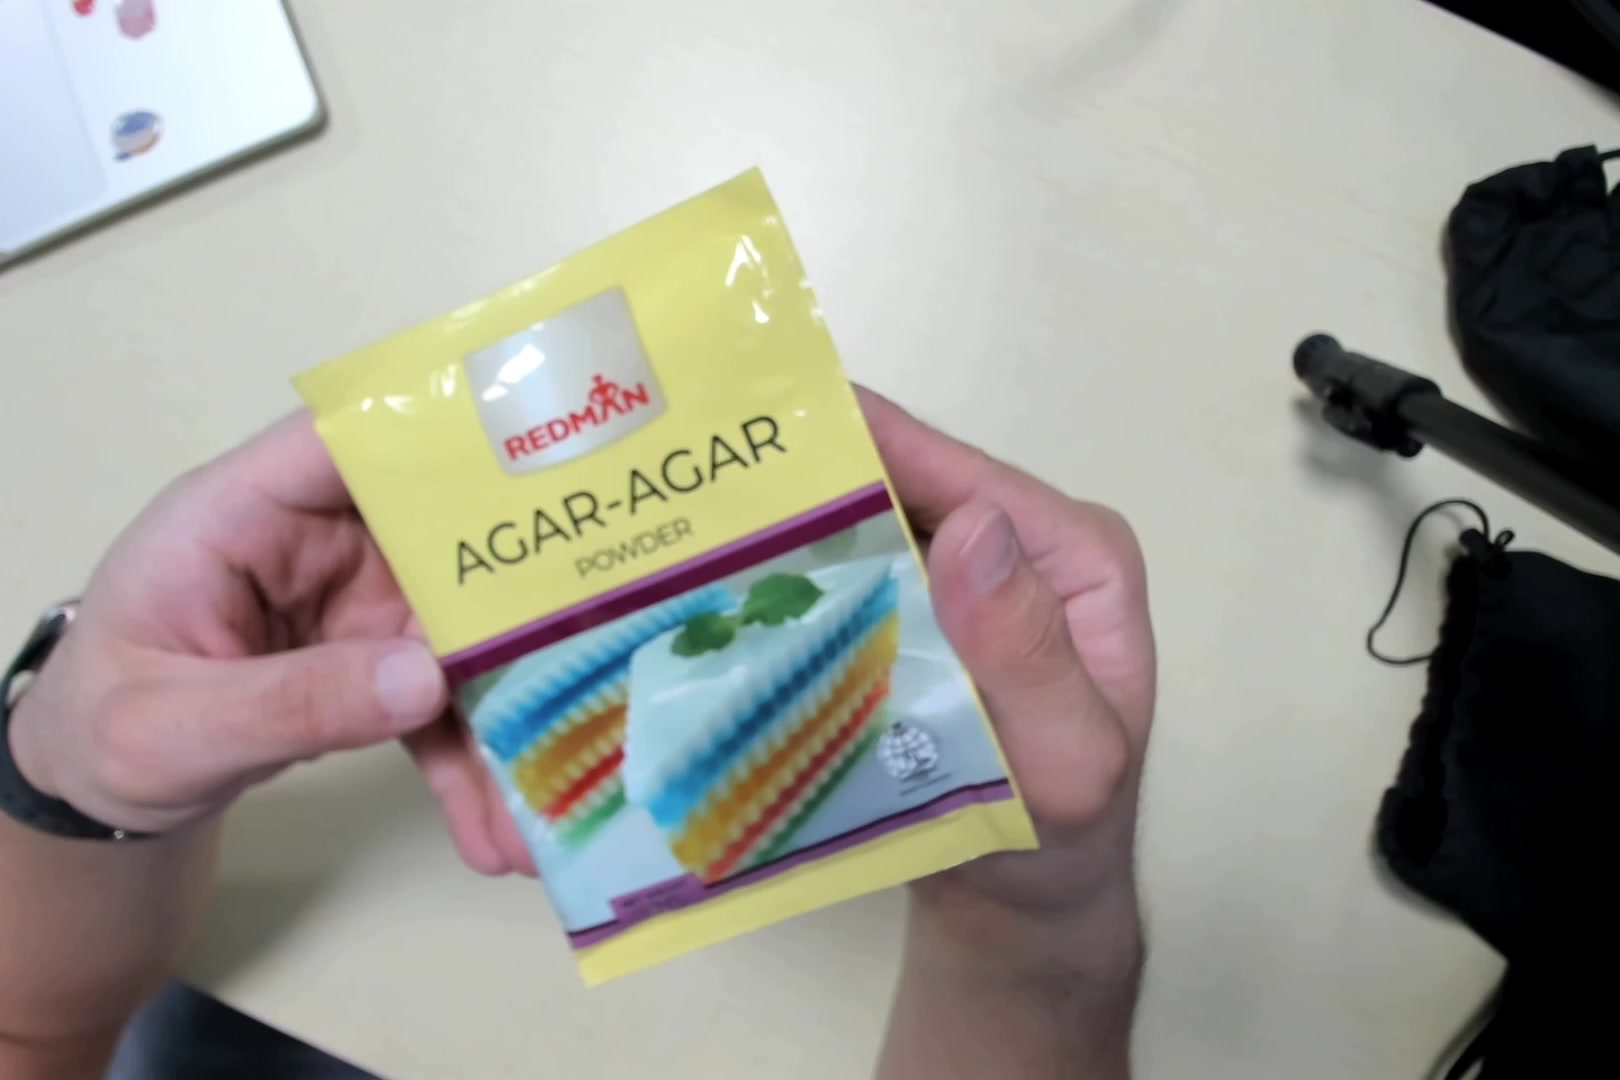OtherBakingNeeds_0-99g_Halal_NonHealthy: (345, 178, 1011, 964)
